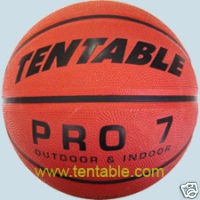basketball: (2, 1, 198, 199)
